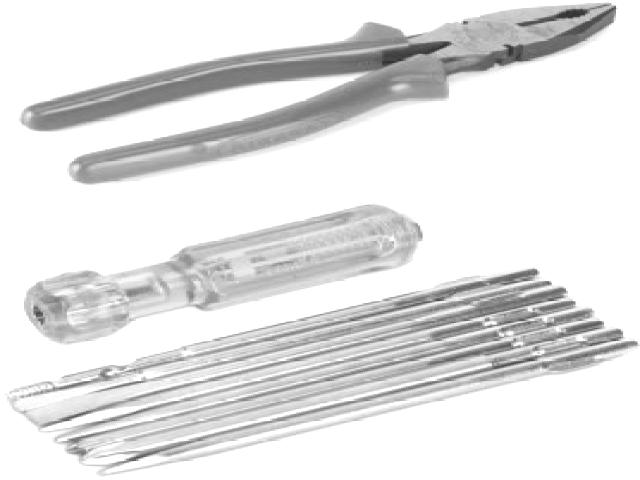Pliers: (22, 2, 615, 182)
Screwdriver: (24, 204, 422, 343)
